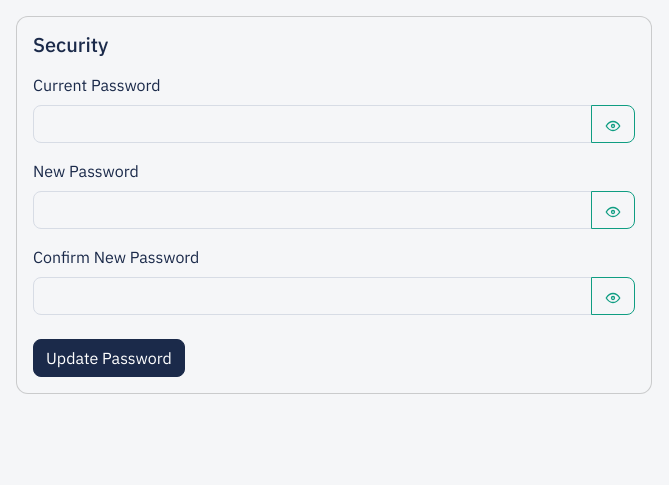
SettingsPage › submits the password change and shows a success message
Type "CurrentPass1!" into the password field labelled "Current Password" at (312, 124), box [33,105,592,143]
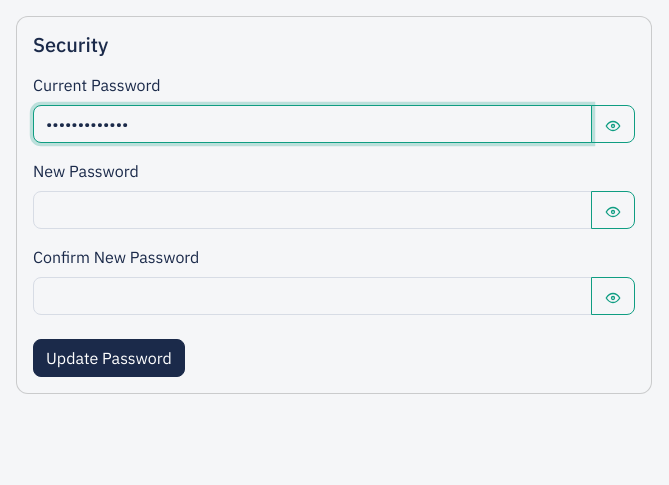
Type "NewPass1!" into the password field labelled "New Password" at (312, 210), box [33,191,592,229]
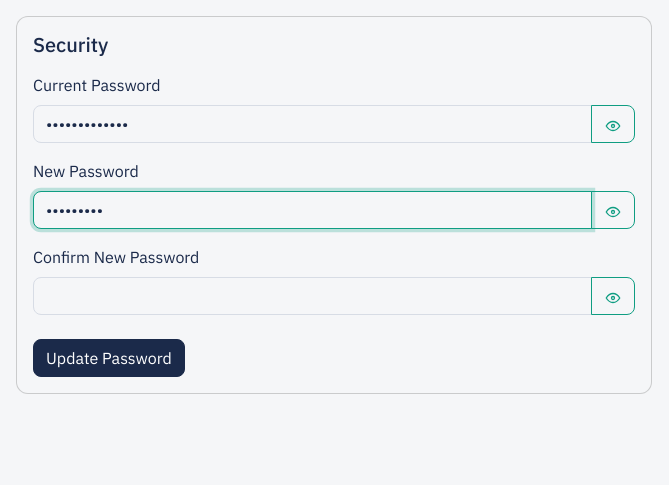
Type "NewPass1!" into the password field labelled "Confirm New Password" at (312, 296), box [33,277,592,315]
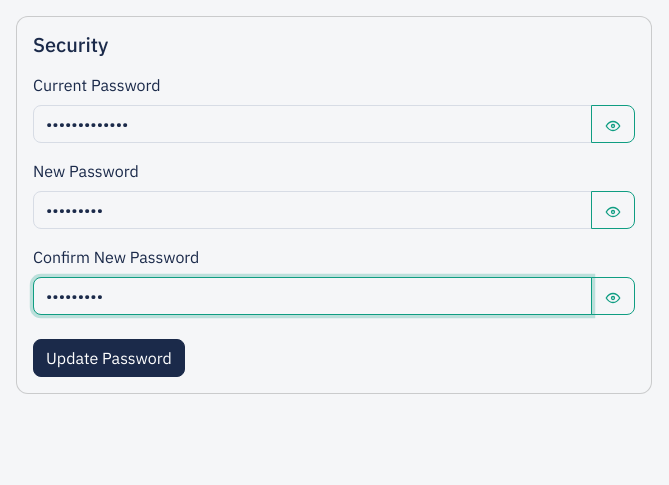
Click the button "Update Password" at (109, 358), box [33,339,185,377]
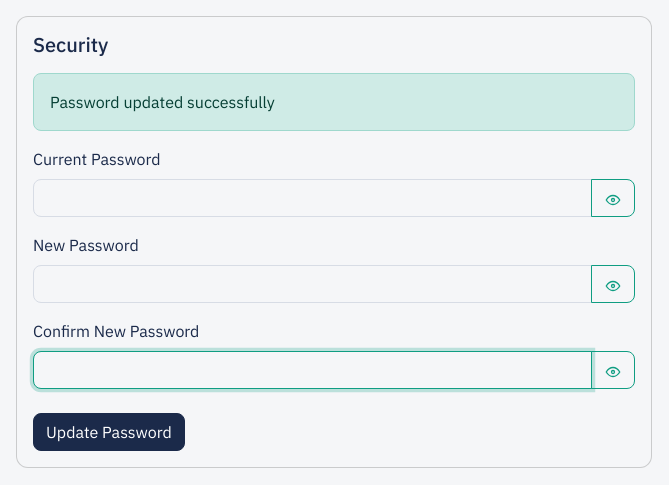
Expected: the message with test id "settings-success-alert" reads "Password updated successfully", [50,92,275,112]
